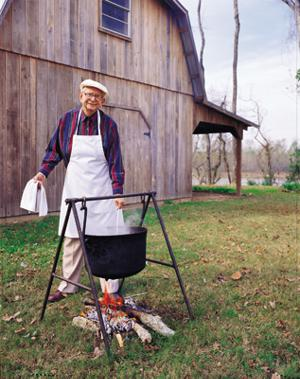person: (30, 75, 129, 306)
